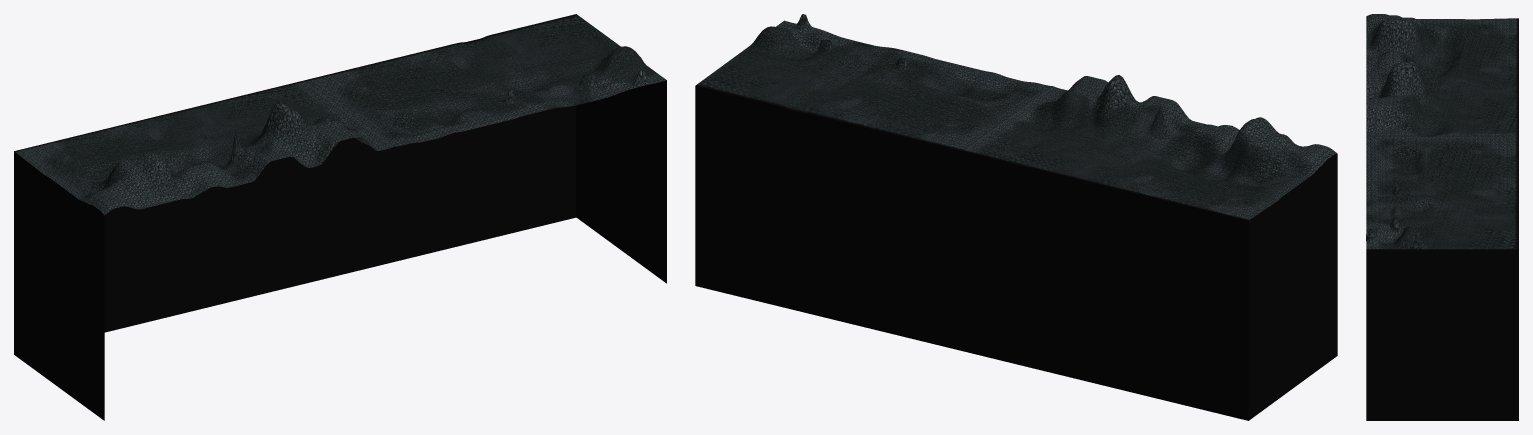
3 renders of one model, left to right at view 1: azimuth 30°, elevation 25°; view 2: azimuth 150°, elevation 25°; view 3: azimuth 270°, elevation 25°, orthographic. The views are drawn at different scales.
Visible parts, largest first — view 1: ground_base3; view 2: ground_base3; view 3: ground_base3.
Part boxes in pixels (bbox=[...]): ground_base3: bbox=[14, 14, 666, 420]; ground_base3: bbox=[695, 14, 1337, 420]; ground_base3: bbox=[1366, 14, 1518, 420].
Bounding box in the file's own units: 5790 × 2475 × 1617.
